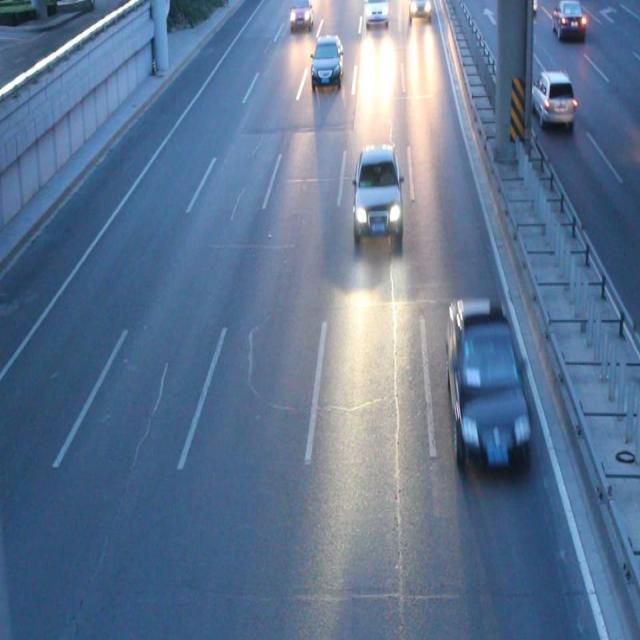car: (447, 298, 530, 468), (354, 144, 401, 239), (529, 70, 573, 124), (311, 33, 342, 84), (551, 1, 583, 38), (289, 1, 313, 26), (364, 1, 387, 25), (408, 1, 431, 18)
